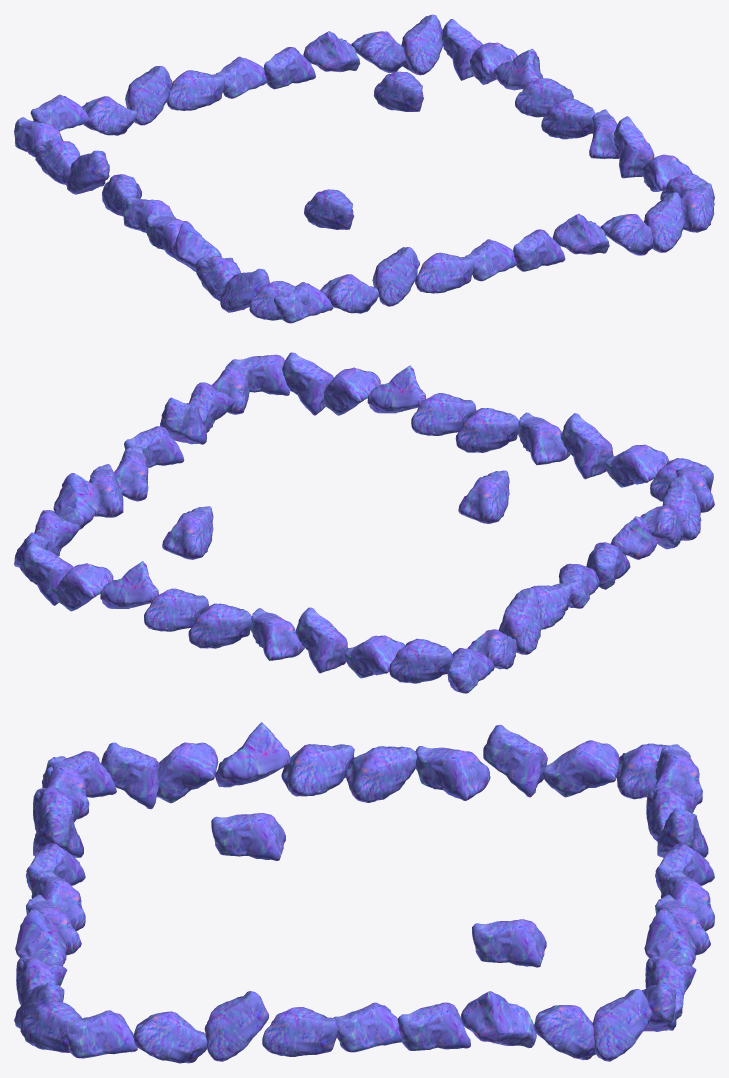
Rendered from rocks2.obj.
3 renders of one model, top to bottom at view 1: azimuth 30°, elevation 25°; view 2: azimuth 150°, elevation 25°; view 3: azimuth 270°, elevation 25°, orthographic. The views are drawn at different scales.
Parts seen in each view (by area): view 1: s_rock.003_s_rock.083, s_rock.014_s_rock.050, s_rock.044_s_rock.084, s_rock.011_s_rock.047, s_rock.015_s_rock.051, s_rock.009_s_rock.080, s_rock.031_s_rock.063, s_rock.028_s_rock.061, s_rock.006_s_rock.087, s_rock.012_s_rock.048, s_rock.001_s_rock.086, s_rock.007_s_rock.081 (+28 smaller); view 2: s_rock.016_s_rock.052, s_rock_s_rock.085, s_rock.014_s_rock.050, s_rock.008_s_rock.045, s_rock.003_s_rock.083, s_rock.004_s_rock.043, s_rock.002_s_rock.076, s_rock.041_s_rock.072, s_rock.001_s_rock.086, s_rock.006_s_rock.087, s_rock.009_s_rock.080, s_rock.027_s_rock.077 (+27 smaller); view 3: s_rock.043_s_rock.074, s_rock.034_s_rock.066, s_rock.029_s_rock.062, s_rock.042_s_rock.073, s_rock.028_s_rock.061, s_rock.024_s_rock.059, s_rock.001_s_rock.086, s_rock.006_s_rock.087, s_rock.022_s_rock.058, s_rock.033_s_rock.065, s_rock.019_s_rock.055, s_rock.041_s_rock.072 (+28 smaller).
Part boxes in pixels (left/top/right/bottom): s_rock.003_s_rock.083: left=372, top=247, right=419, bottom=306; s_rock.014_s_rock.050: left=125, top=66, right=172, bottom=125; s_rock.044_s_rock.084: left=415, top=252, right=474, bottom=293; s_rock.011_s_rock.047: left=401, top=14, right=442, bottom=75; s_rock.015_s_rock.051: left=166, top=70, right=224, bottom=110; s_rock.009_s_rock.080: left=644, top=192, right=685, bottom=252; s_rock.031_s_rock.063: left=541, top=98, right=595, bottom=139; s_rock.028_s_rock.061: left=614, top=116, right=654, bottom=178; s_rock.006_s_rock.087: left=304, top=189, right=354, bottom=229; s_rock.012_s_rock.048: left=303, top=31, right=360, bottom=72; s_rock.001_s_rock.086: left=373, top=71, right=423, bottom=111; s_rock.007_s_rock.081: left=552, top=213, right=609, bottom=254; s_rock.016_s_rock.052: left=188, top=603, right=251, bottom=648; s_rock_s_rock.085: left=455, top=408, right=519, bottom=452; s_rock.014_s_rock.050: left=295, top=607, right=347, bottom=673; s_rock.008_s_rock.045: left=389, top=638, right=453, bottom=683; s_rock.003_s_rock.083: left=560, top=413, right=613, bottom=479; s_rock.004_s_rock.043: left=144, top=588, right=208, bottom=631; s_rock.002_s_rock.076: left=411, top=393, right=476, bottom=435; s_rock.041_s_rock.072: left=498, top=587, right=542, bottom=654; s_rock.001_s_rock.086: left=162, top=506, right=213, bottom=559; s_rock.006_s_rock.087: left=458, top=470, right=509, bottom=523; s_rock.009_s_rock.080: left=282, top=352, right=333, bottom=415; s_rock.027_s_rock.077: left=605, top=444, right=669, bottom=487; s_rock.043_s_rock.074: left=345, top=746, right=416, bottom=802; s_rock.034_s_rock.066: left=542, top=740, right=619, bottom=797; s_rock.029_s_rock.062: left=262, top=1007, right=338, bottom=1056; s_rock.042_s_rock.073: left=415, top=746, right=490, bottom=800; s_rock.028_s_rock.061: left=204, top=991, right=268, bottom=1061; s_rock.024_s_rock.059: left=461, top=991, right=536, bottom=1048; s_rock.001_s_rock.086: left=472, top=919, right=546, bottom=967; s_rock.006_s_rock.087: left=211, top=813, right=285, bottom=860; s_rock.022_s_rock.058: left=592, top=989, right=652, bottom=1061; s_rock.033_s_rock.065: left=281, top=744, right=354, bottom=796; s_rock.019_s_rock.055: left=133, top=1011, right=207, bottom=1063; s_rock.041_s_rock.072: left=483, top=724, right=547, bottom=797.
Size of the model in its own units: 90.72 by 11.04 by 92.57.
